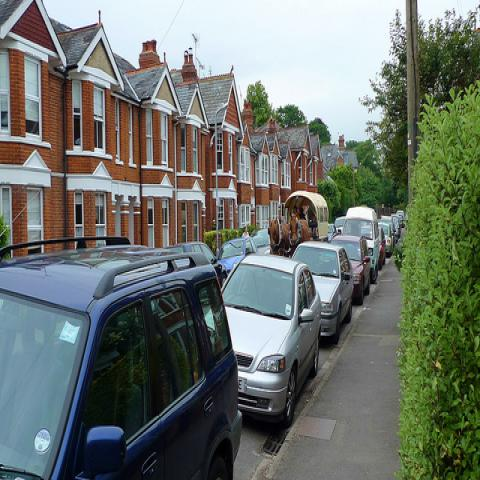bus: (342, 207, 379, 283)
car: (1, 233, 243, 473), (222, 245, 323, 434), (290, 238, 354, 346), (329, 233, 371, 307), (164, 241, 229, 286), (216, 237, 257, 275), (378, 214, 401, 244), (378, 220, 395, 258), (378, 227, 386, 269), (327, 223, 338, 241), (399, 215, 405, 227)
